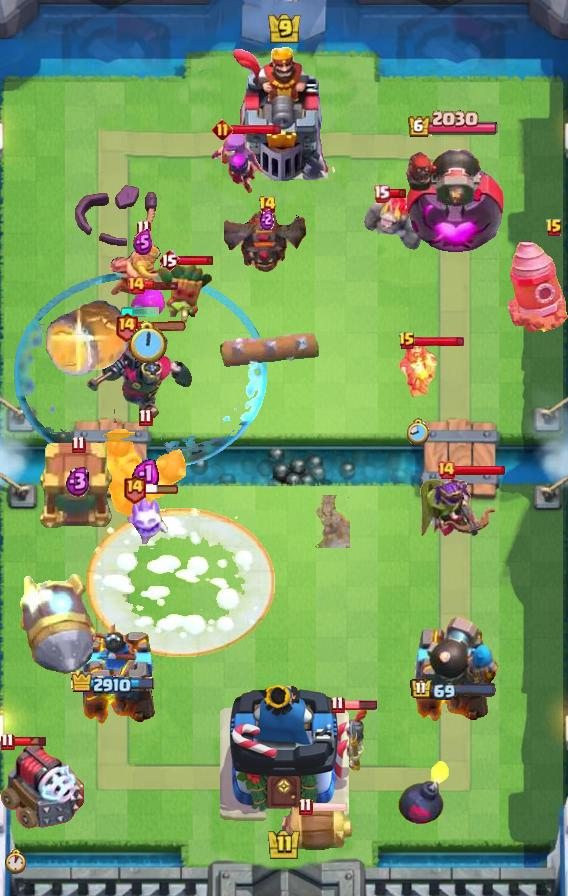archer-evolution: (224, 208, 310, 274)
baby-dragon: (397, 758, 451, 826)
barbarian-hut: (417, 475, 501, 547)
bomb: (39, 442, 117, 530)
bowler: (398, 341, 438, 399)
dirt: (43, 299, 131, 379)
electro-spirit: (132, 457, 159, 489), (65, 465, 91, 497), (133, 229, 153, 255), (260, 208, 274, 230)
elixir: (128, 322, 167, 367), (406, 418, 429, 446), (4, 850, 28, 875)
emote: (414, 335, 466, 348), (230, 123, 281, 136), (454, 464, 506, 476), (136, 320, 188, 331), (312, 801, 349, 813), (144, 279, 180, 291), (144, 483, 180, 495), (342, 699, 378, 711), (12, 735, 48, 747), (177, 255, 214, 266), (388, 189, 407, 200)
fisherman: (312, 495, 350, 548)
goblin-barrel: (156, 259, 214, 325)
goblin-giant: (108, 242, 178, 300)
golem: (0, 741, 86, 831)
ice-spirit: (120, 307, 160, 317)
inferno-tower: (85, 327, 195, 423)
king-tower: (219, 678, 349, 826), (230, 45, 338, 181)
magic-archer: (508, 239, 568, 333)
miner: (130, 289, 166, 319)
minion: (215, 331, 321, 369)
mirror: (125, 492, 169, 546)
pad_0: (13, 271, 267, 477)
phoenix-big: (85, 508, 274, 657)
princess: (329, 707, 369, 771)
queen-tower: (72, 619, 156, 731)
rascal-girl: (209, 131, 265, 197)
royal-guardian: (101, 425, 189, 529)
selected: (407, 110, 499, 139), (71, 671, 157, 697), (411, 678, 498, 702)
text: (121, 473, 146, 504), (114, 310, 138, 341), (158, 248, 180, 272), (211, 119, 233, 140), (258, 195, 278, 215), (126, 275, 146, 295), (436, 460, 456, 480), (545, 218, 563, 238), (398, 331, 416, 351), (373, 185, 390, 203), (330, 694, 345, 713), (298, 797, 313, 816), (138, 409, 153, 427), (1, 733, 16, 751), (137, 218, 151, 237), (71, 435, 85, 454)
the-log: (278, 804, 354, 854)
tower-bar: (401, 138, 505, 256), (403, 615, 503, 731)
valkyrie-evolution: (360, 190, 428, 250)
x-bow: (19, 572, 98, 676)
